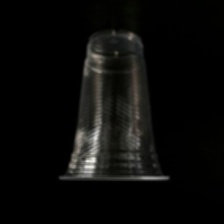glass: (53, 21, 174, 187)
